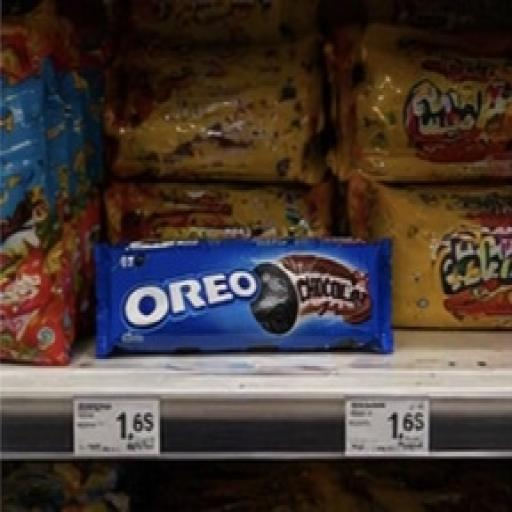oreo: (64, 175, 417, 440)
